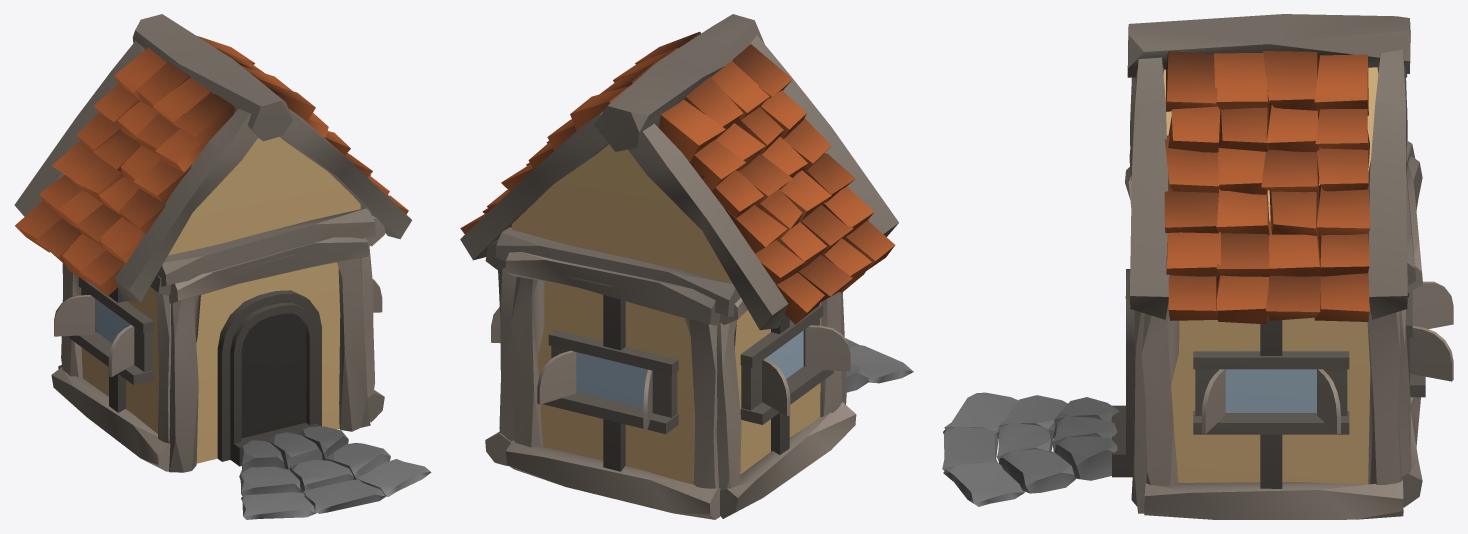
File: mini_building.fbx
3 views of the same model, side by side, from view 1: azimuth 30°, elevation 25°; view 2: azimuth 150°, elevation 25°; view 3: azimuth 270°, elevation 25° (orthographic). The views are drawn at different scales.
Parts seen in each view (by area): view 1: mini_building; view 2: mini_building; view 3: mini_building.
Boxes of the visible parts, <box> form: mini_building: <box>14,14,431,519</box>; mini_building: <box>460,14,913,519</box>; mini_building: <box>942,14,1453,519</box>.
Size of the model in its own units: 8.33 by 8.91 by 9.68.
